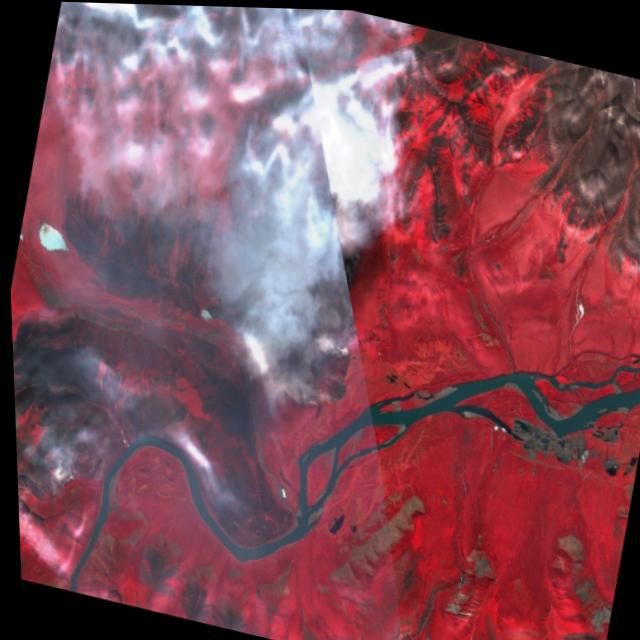fire: (244, 138, 404, 430), (37, 439, 114, 512)
